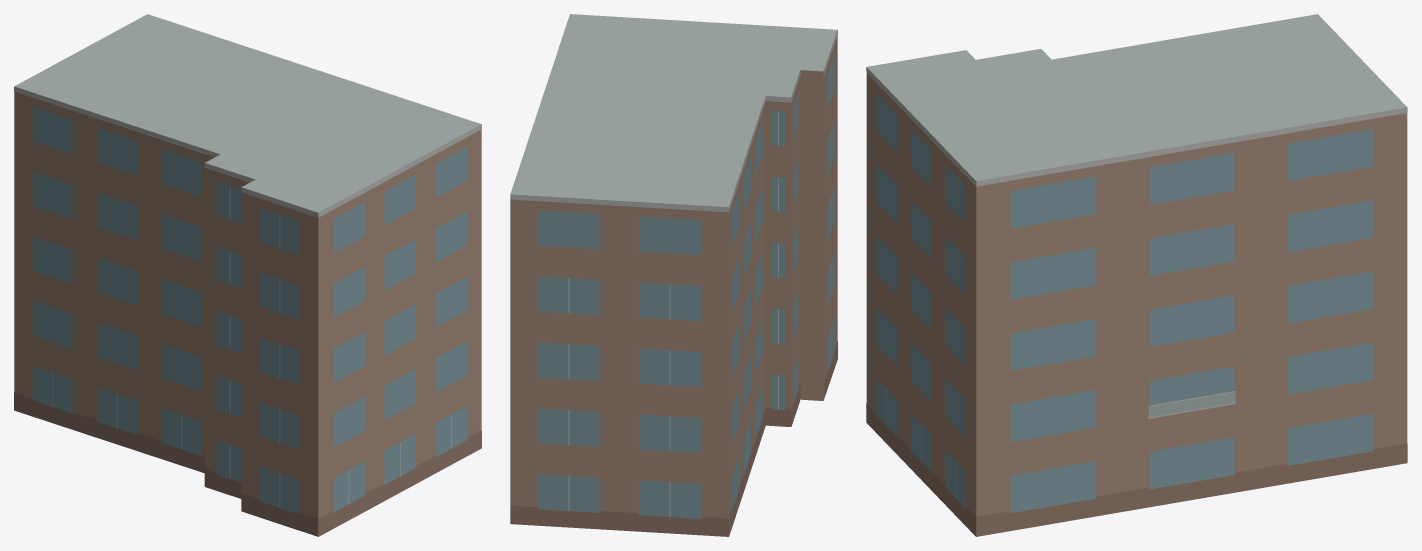
Rendered from survey-upis-32687756.glb.
3 views of the same model, side by side, from view 1: azimuth 30°, elevation 25°; view 2: azimuth 150°, elevation 25°; view 3: azimuth 270°, elevation 25° (orthographic). The views are drawn at different scales.
Visible parts, largest first — view 1: survey-upis-32687756.tmp; view 2: survey-upis-32687756.tmp; view 3: survey-upis-32687756.tmp.
Boxes of the visible parts, x1,y1,x2,y2 form: survey-upis-32687756.tmp: [14, 14, 481, 536]; survey-upis-32687756.tmp: [510, 14, 837, 536]; survey-upis-32687756.tmp: [866, 14, 1407, 536].
Size of the model in its own units: 15.72 by 15.6 by 21.51.
